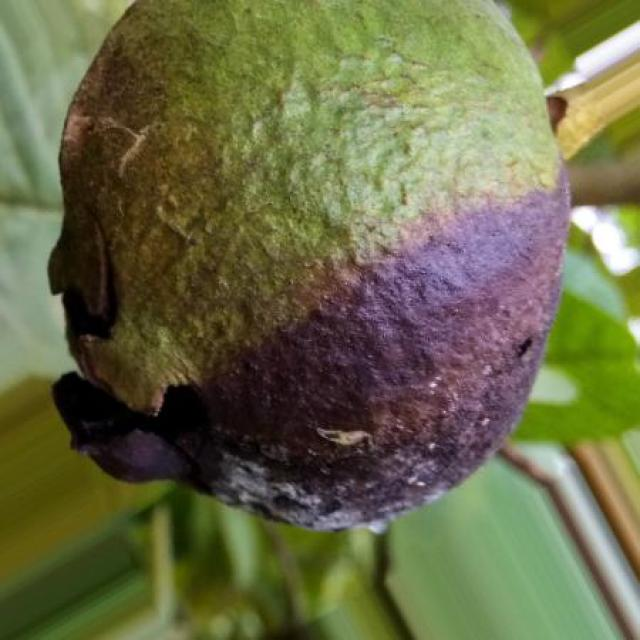Styler and Root: (49, 1, 640, 529)
